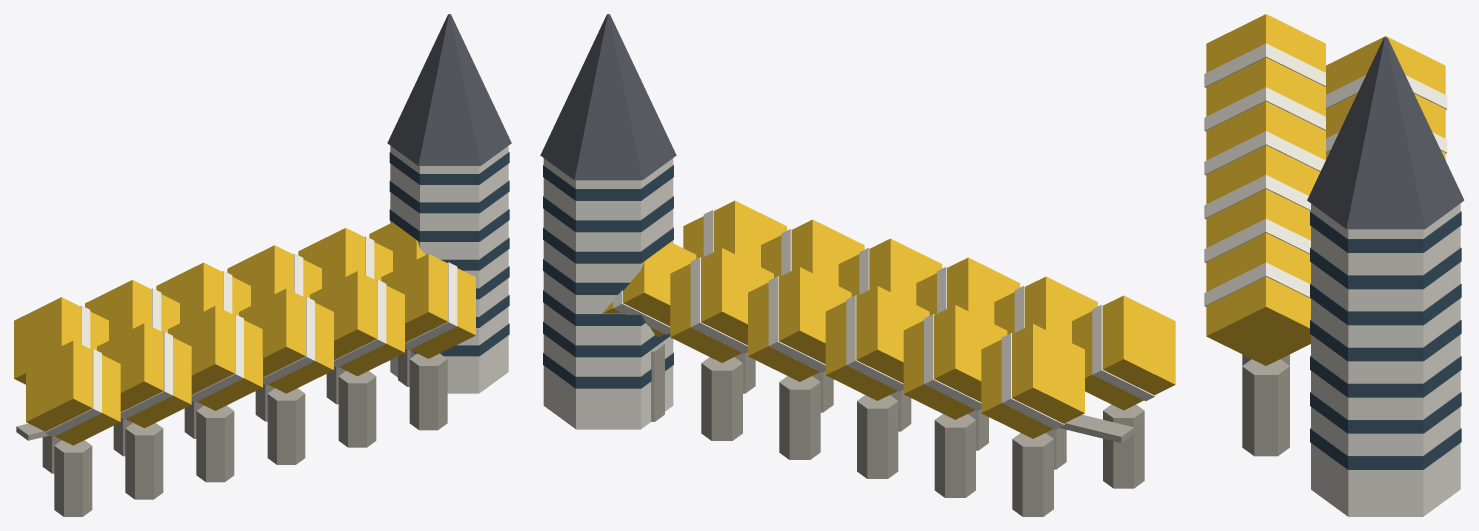
The model's file is cubes.glb.
3 views of the same model, side by side, from view 1: azimuth 30°, elevation 25°; view 2: azimuth 150°, elevation 25°; view 3: azimuth 270°, elevation 25° (orthographic). The views are drawn at different scales.
Visible parts, largest first — view 1: potlood, potloodkap, kubus00, kubus02, kubus03, kubus01, kubus05, kubus04, kubus10, kubus14, kubus11, kubus13 (+19 smaller); view 2: potlood, potloodkap, kubus10, kubus00, kubus12, kubus13, kubus11, kubus14, kubus03, kubus05, kubus04, kubus01 (+23 smaller); view 3: potlood, potloodkap, kubus05, paal05, kubus01, kubus00, kubus02, kubus03, kubus04, kubus10, potloodband14, potloodband18 (+14 smaller).
Part boxes in pixels (x1=…): potlood: x1=390, y1=146, x2=508, y2=393; potloodkap: x1=387, y1=14, x2=511, y2=165; kubus00: x1=26, y1=340, x2=120, y2=445; kubus02: x1=168, y1=306, x2=262, y2=410; kubus03: x1=239, y1=288, x2=333, y2=393; kubus01: x1=97, y1=323, x2=191, y2=428; kubus05: x1=381, y1=254, x2=475, y2=358; kubus04: x1=310, y1=271, x2=404, y2=376; kubus10: x1=14, y1=297, x2=108, y2=384; kubus14: x1=298, y1=228, x2=392, y2=288; kubus11: x1=85, y1=280, x2=179, y2=340; kubus13: x1=227, y1=245, x2=321, y2=305; potlood: x1=543, y1=158, x2=673, y2=429; potloodkap: x1=540, y1=14, x2=676, y2=180; kubus10: x1=981, y1=324, x2=1084, y2=438; kubus00: x1=1072, y1=295, x2=1175, y2=410; kubus12: x1=825, y1=286, x2=929, y2=400; kubus13: x1=748, y1=267, x2=851, y2=381; kubus11: x1=903, y1=305, x2=1007, y2=419; kubus14: x1=670, y1=248, x2=773, y2=362; kubus03: x1=838, y1=238, x2=942, y2=304; kubus05: x1=683, y1=200, x2=786, y2=266; kubus04: x1=761, y1=219, x2=864, y2=285; kubus01: x1=994, y1=276, x2=1097, y2=342; potlood: x1=1311, y1=203, x2=1460, y2=516; potloodkap: x1=1307, y1=37, x2=1464, y2=229; kubus05: x1=1206, y1=233, x2=1310, y2=365; paal05: x1=1242, y1=359, x2=1289, y2=456; kubus01: x1=1206, y1=58, x2=1325, y2=130; kubus00: x1=1206, y1=14, x2=1325, y2=87; kubus02: x1=1206, y1=101, x2=1325, y2=174; kubus03: x1=1206, y1=145, x2=1319, y2=218; kubus04: x1=1206, y1=189, x2=1310, y2=262; kubus10: x1=1326, y1=36, x2=1445, y2=109; potloodband14: x1=1310, y1=356, x2=1461, y2=397; potloodband18: x1=1310, y1=319, x2=1461, y2=361.
Size of the model in its own units: 75.78 by 50 by 26.09.
